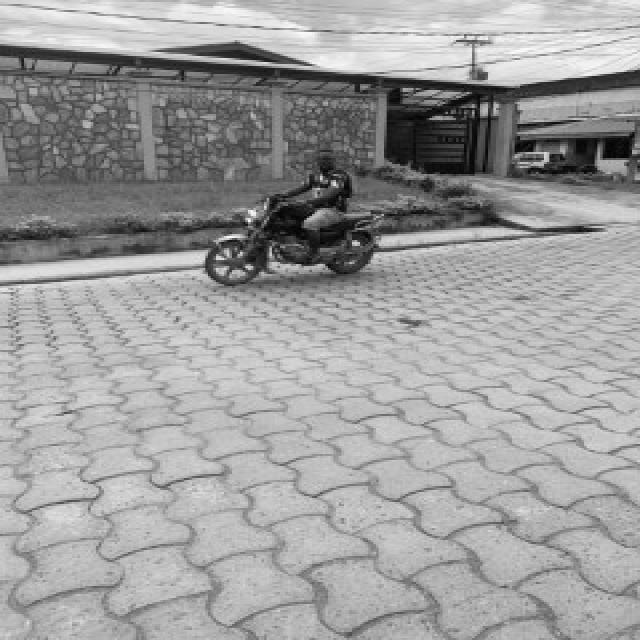Motorbike: (205, 152, 384, 286)
